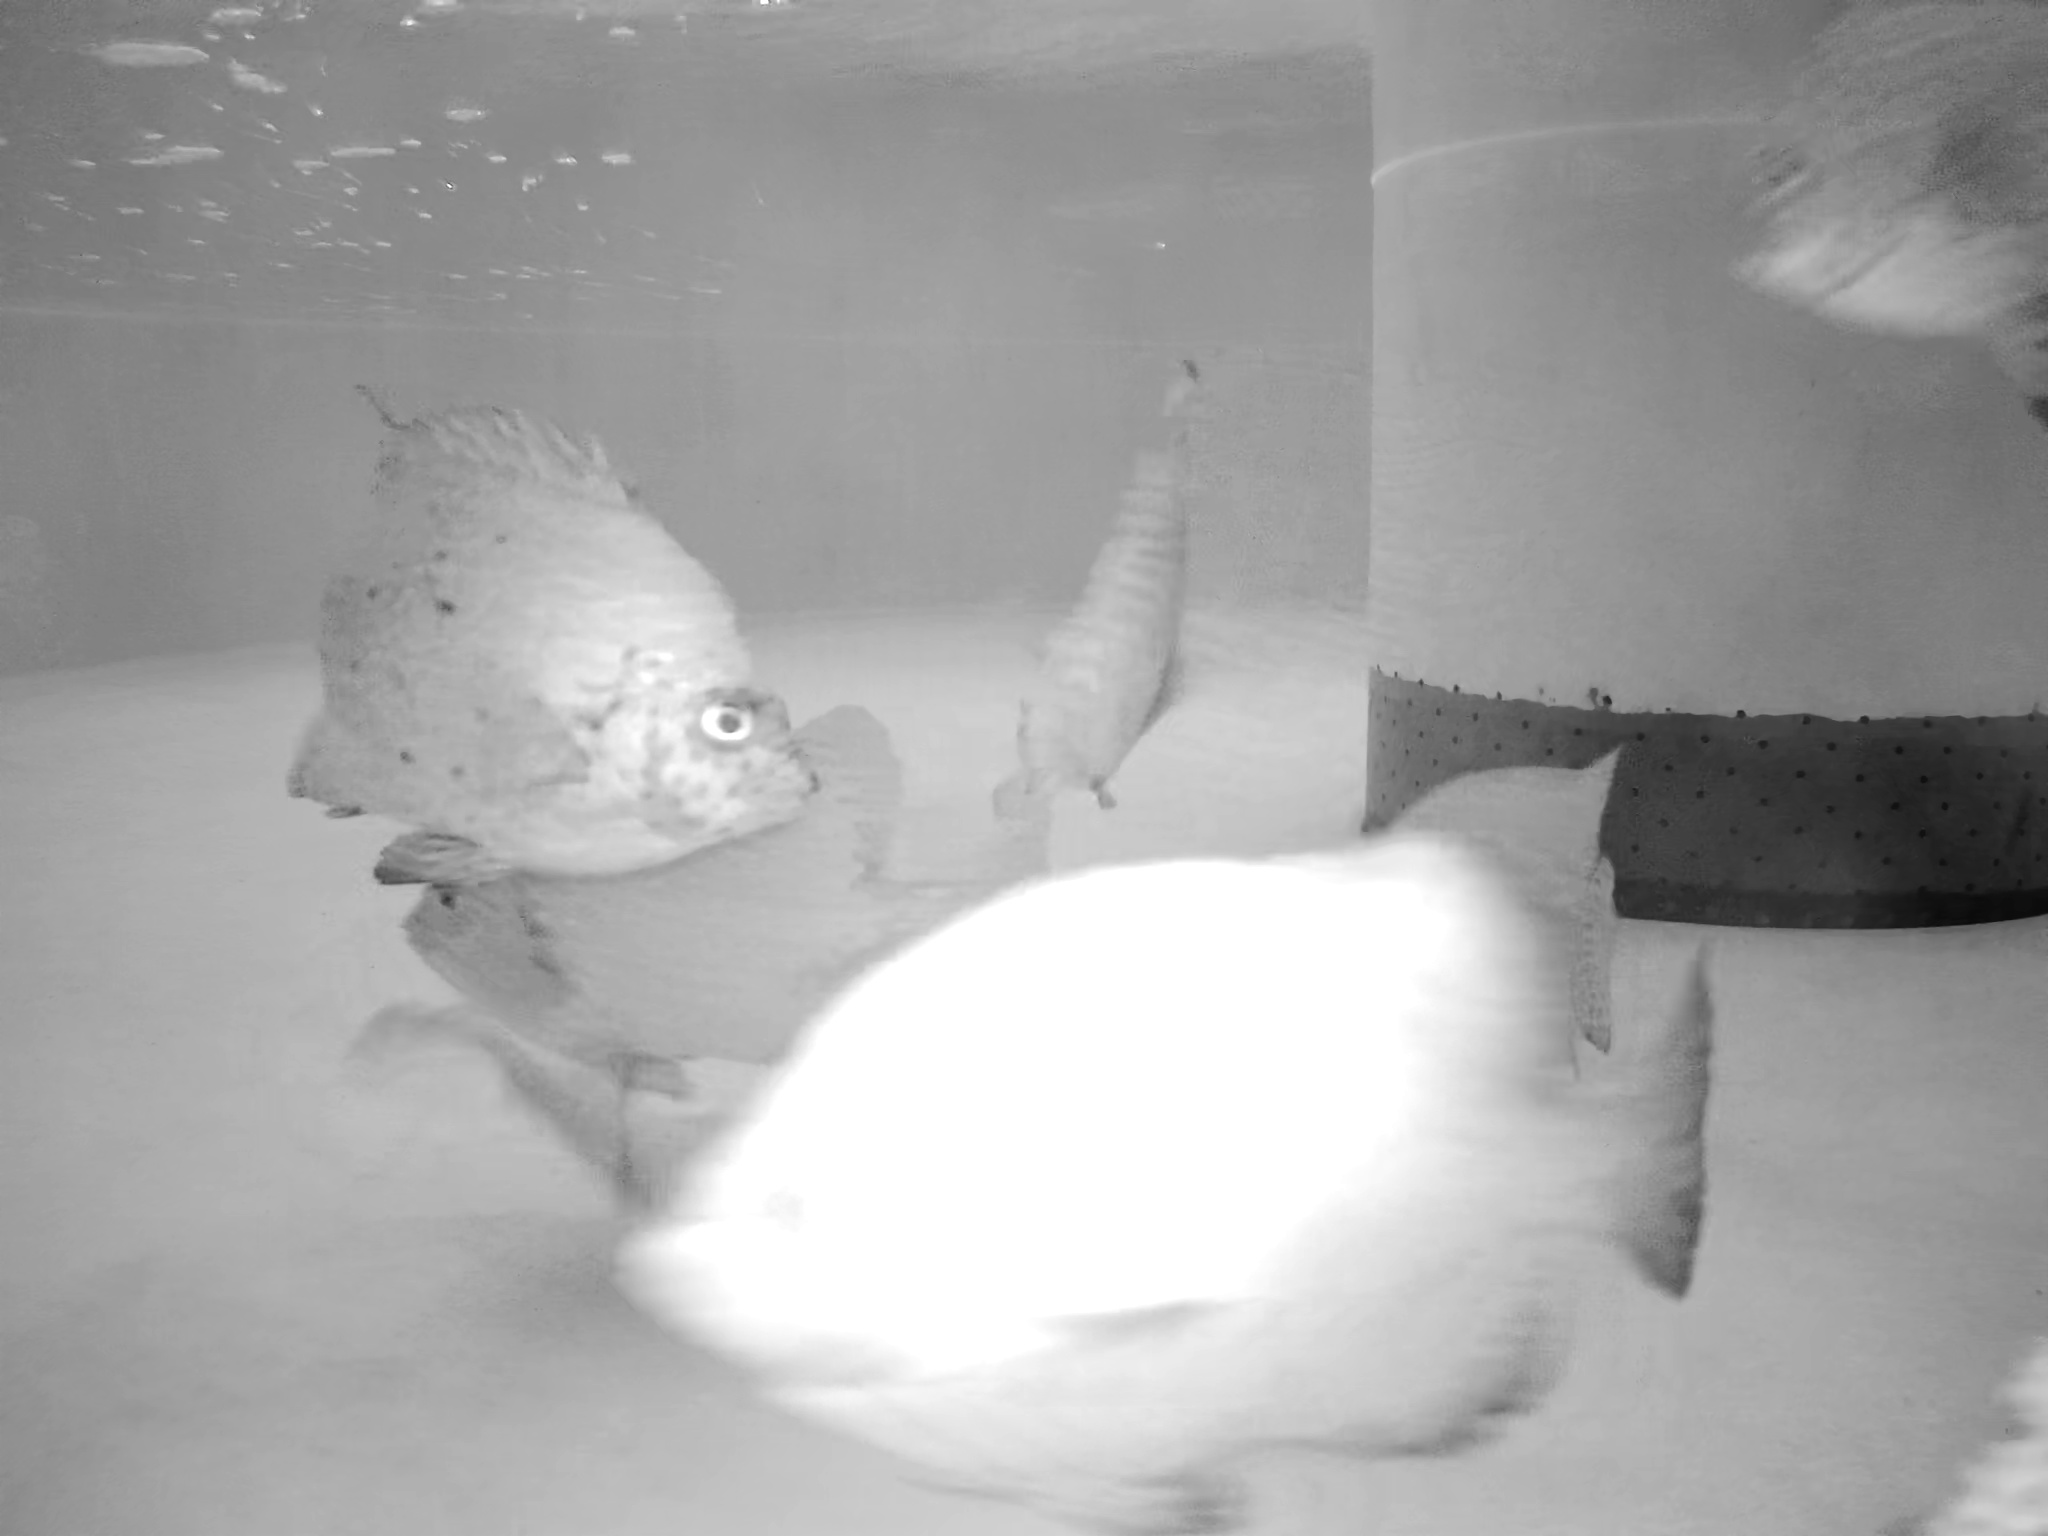fish: (584, 821, 1734, 1518), (295, 394, 816, 920), (371, 692, 1055, 1057), (1709, 2, 2048, 434), (361, 986, 850, 1252), (1022, 360, 1258, 792), (1329, 750, 1632, 1062)
